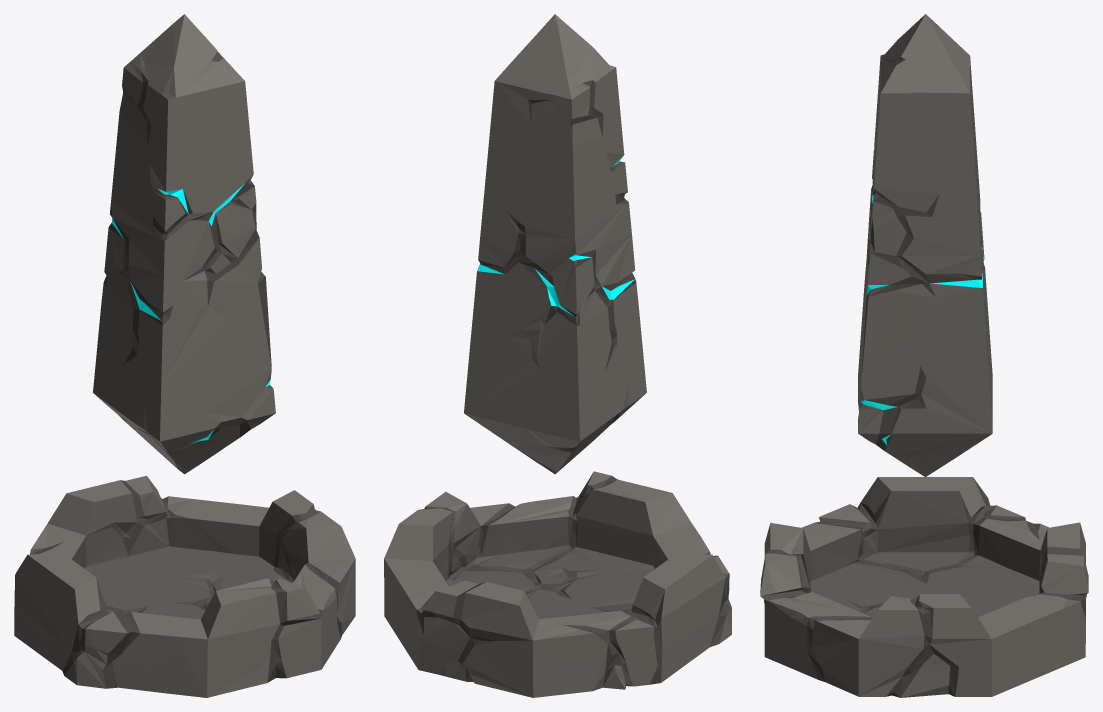
Rendered from pit_obelisk_glow.gltf.
3 renders of one model, left to right at view 1: azimuth 30°, elevation 25°; view 2: azimuth 150°, elevation 25°; view 3: azimuth 270°, elevation 25°, orthographic.
Parts seen in each view (by area): view 1: pit_obelisk_glow; view 2: pit_obelisk_glow; view 3: pit_obelisk_glow.
Boxes of the visible parts, box(x1,y1,x2,y2) form: pit_obelisk_glow: box(14, 14, 355, 697); pit_obelisk_glow: box(384, 14, 731, 697); pit_obelisk_glow: box(760, 14, 1088, 697).
Bounding box in the file's own units: 4.54 × 9.41 × 4.56.
1 material, 1 textured.
